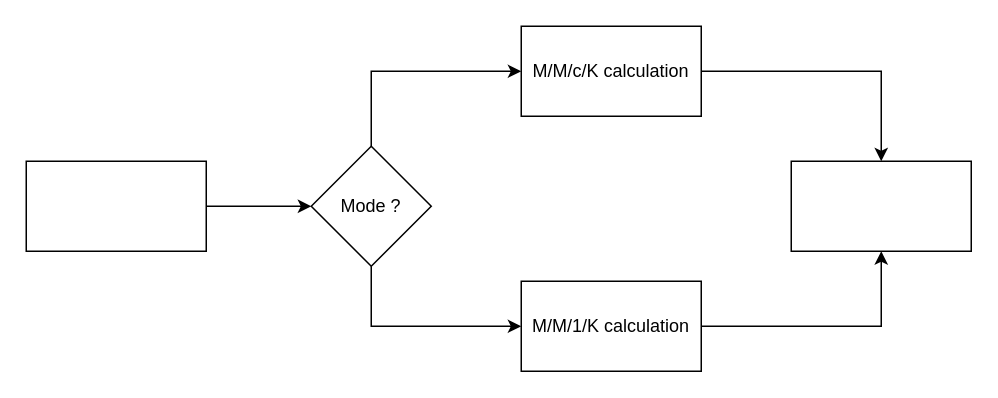
Image size: 998x398. Some labels were removed from this diagram. The box of each missing label's shape, as (x1, y1, x2, y2) in pixels:
Input Data: (25, 160, 206, 251)
OUTPUT: (790, 160, 971, 251)
